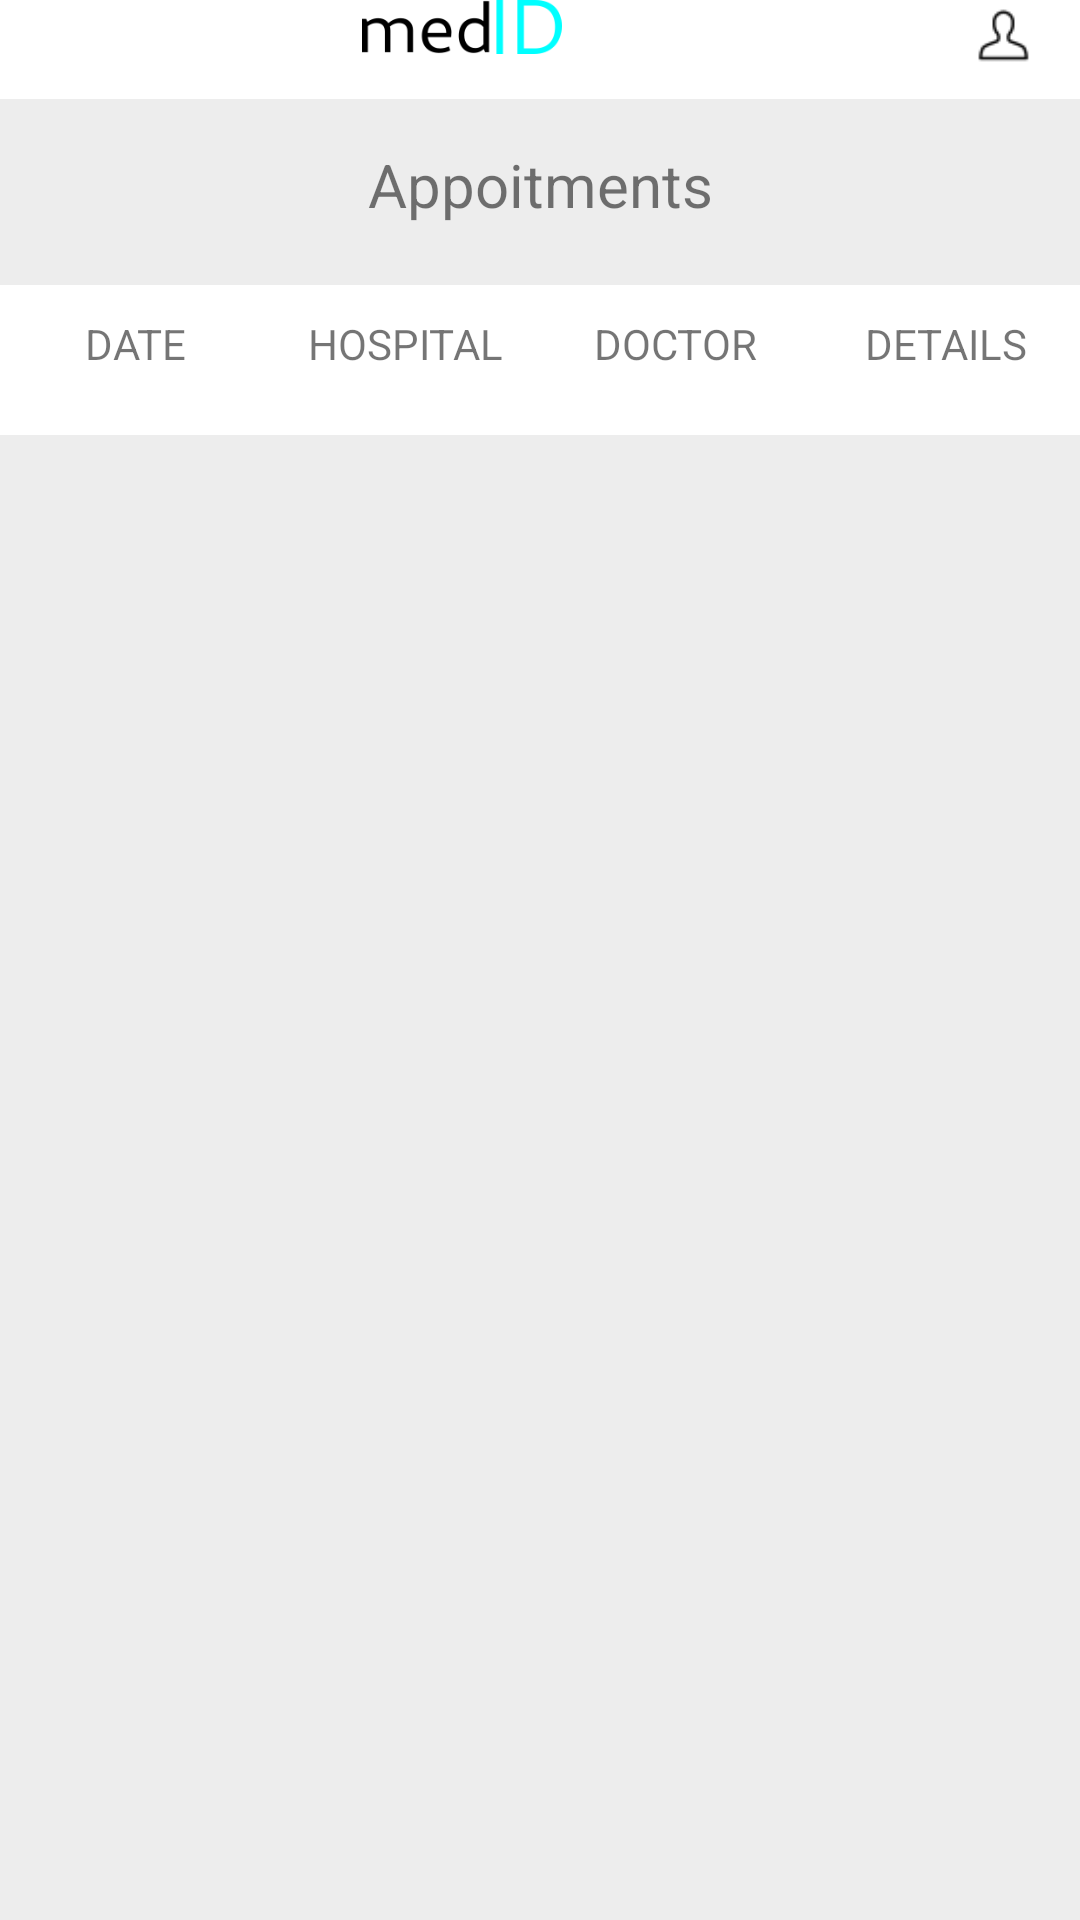

Point at icon controls on the screen. Image size 1080x1920, points as (x,y).
usr: (1003,35)
